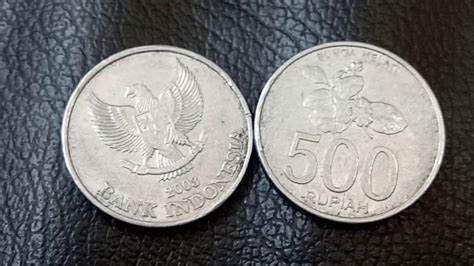coin_500_e2003: (257, 39, 448, 230), (59, 44, 254, 226)
